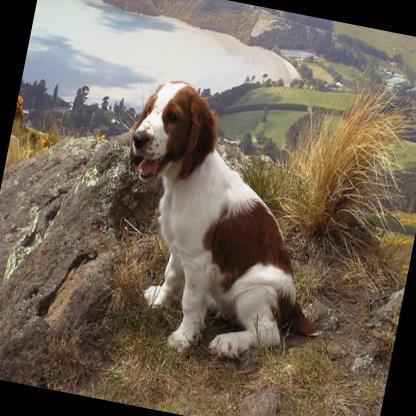Welsh_springer_spaniel: (91, 70, 362, 376)
